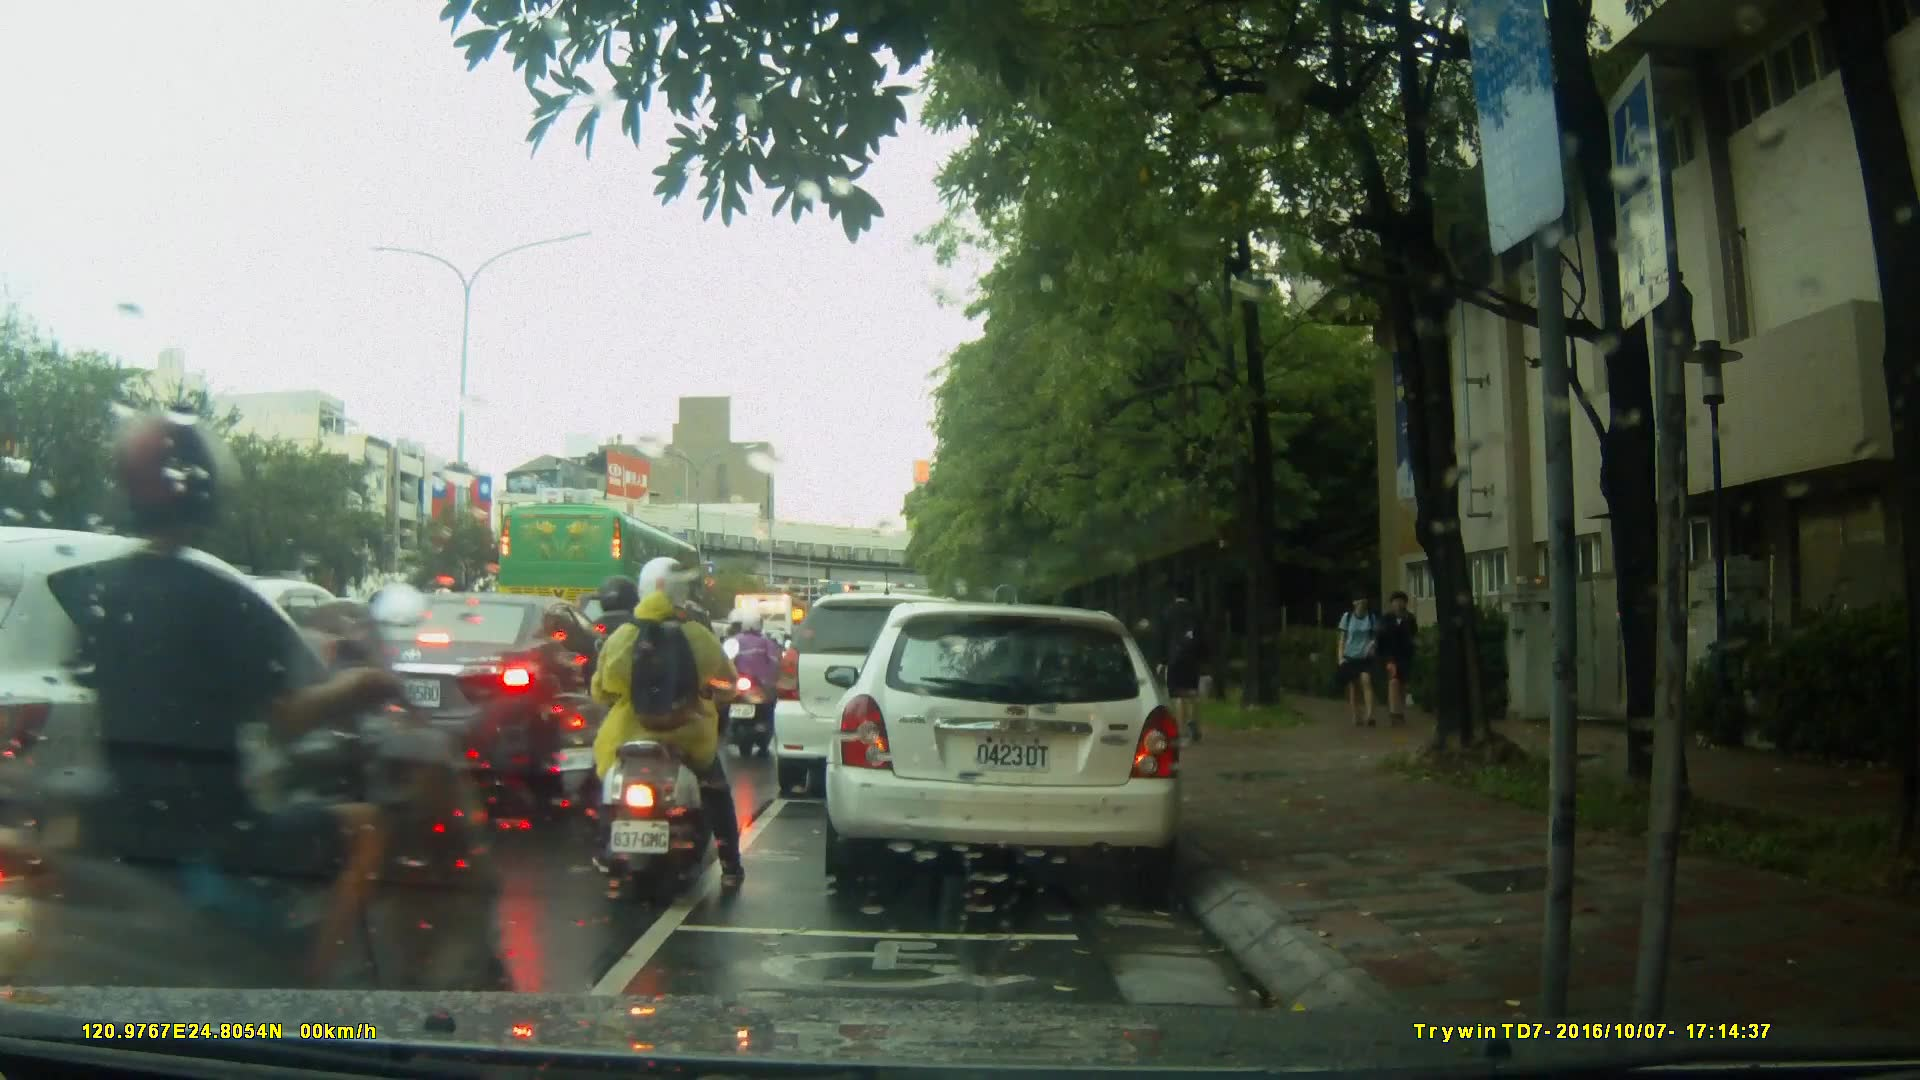pedestrian: (1154, 584, 1211, 751), (1327, 586, 1381, 736), (1376, 585, 1417, 732)
rider: (1, 404, 520, 1080), (594, 556, 750, 885), (554, 585, 685, 826), (728, 608, 790, 759)
vehicle: (1, 524, 430, 986), (831, 592, 1196, 897), (315, 594, 661, 800), (770, 592, 999, 800), (495, 502, 708, 640)
